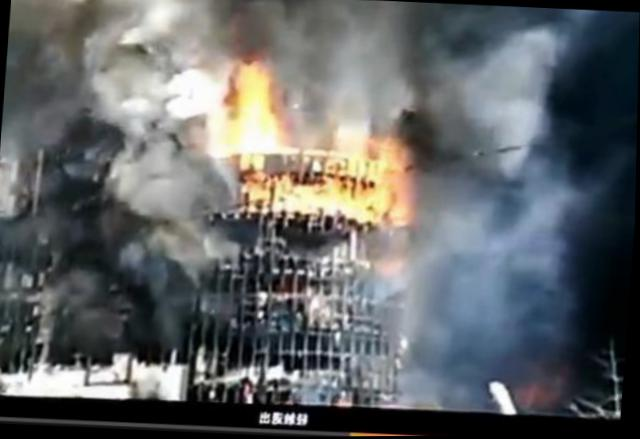fire: (247, 173, 398, 220), (231, 57, 291, 152), (372, 139, 414, 221)
